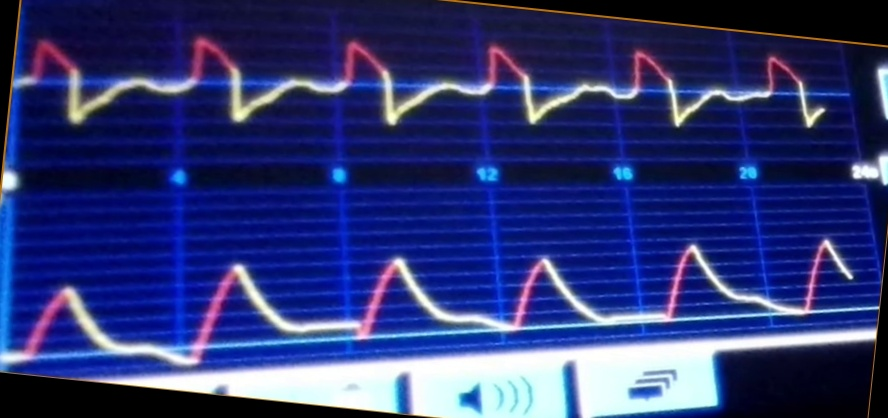Ineffective_effort Flow: (19, 28, 822, 140)
Ineffective_effort Volume: (10, 235, 853, 368)
